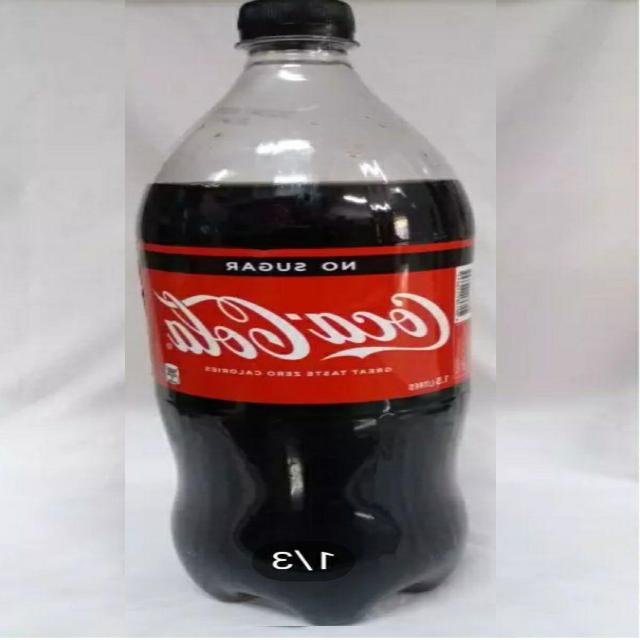coca-cola: (125, 0, 496, 626)
